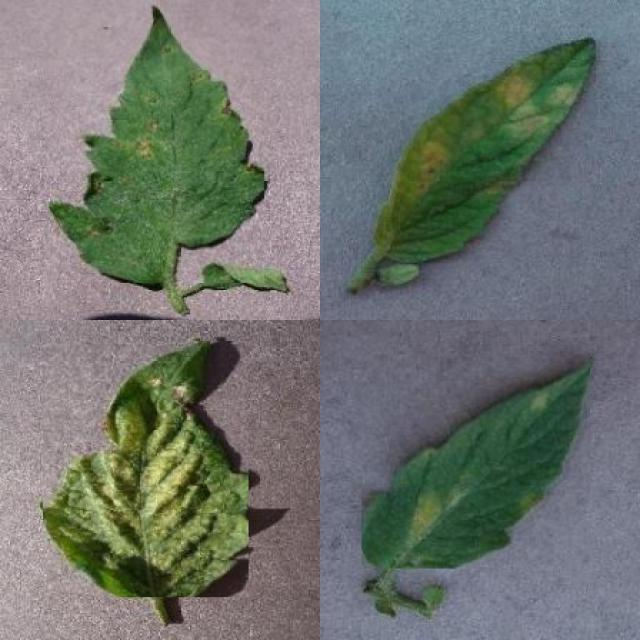Leaf Mold: (374, 35, 596, 264), (362, 355, 591, 568)
Septoria: (46, 0, 264, 284)
Spider Mites: (44, 340, 249, 597)
